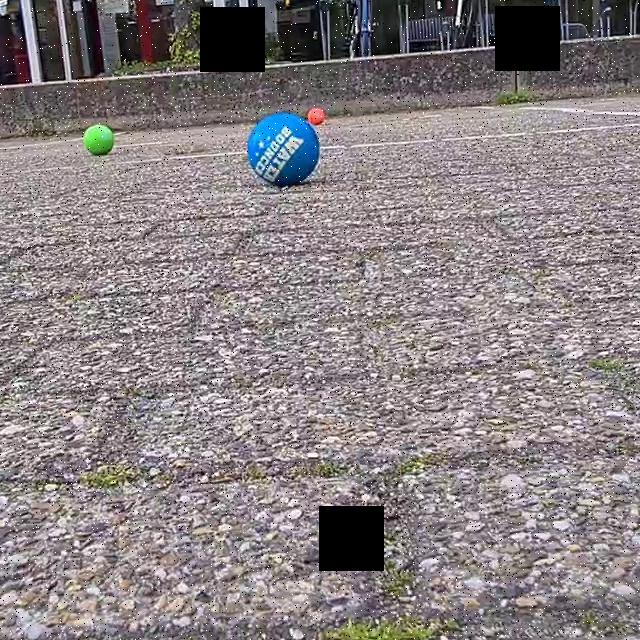ball: (80, 124, 117, 158), (305, 105, 329, 129)
